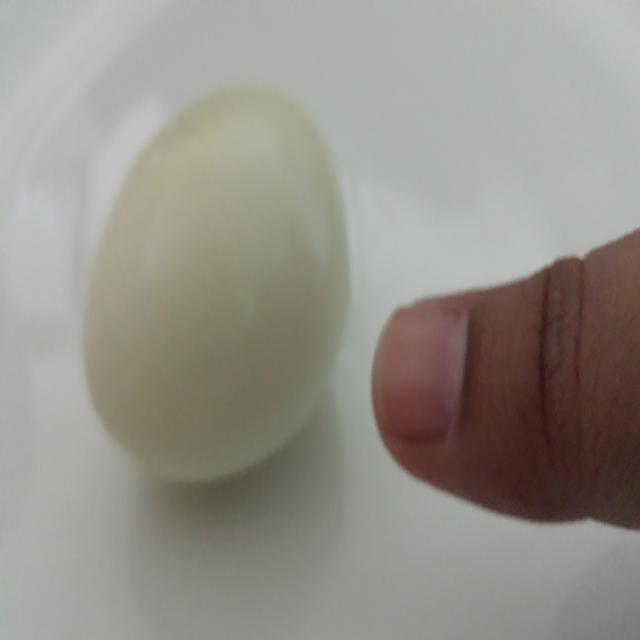egg: (71, 71, 360, 508)
